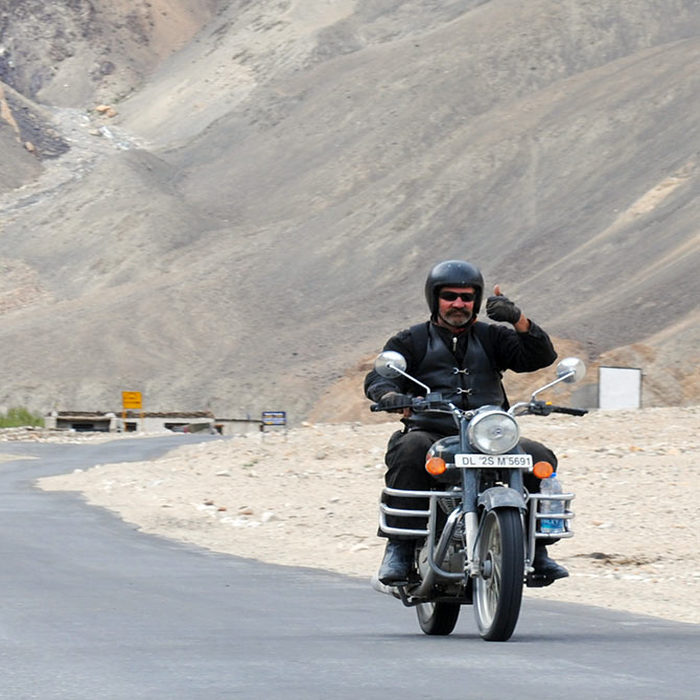h: (423, 259, 487, 338)
n: (453, 451, 534, 470)
